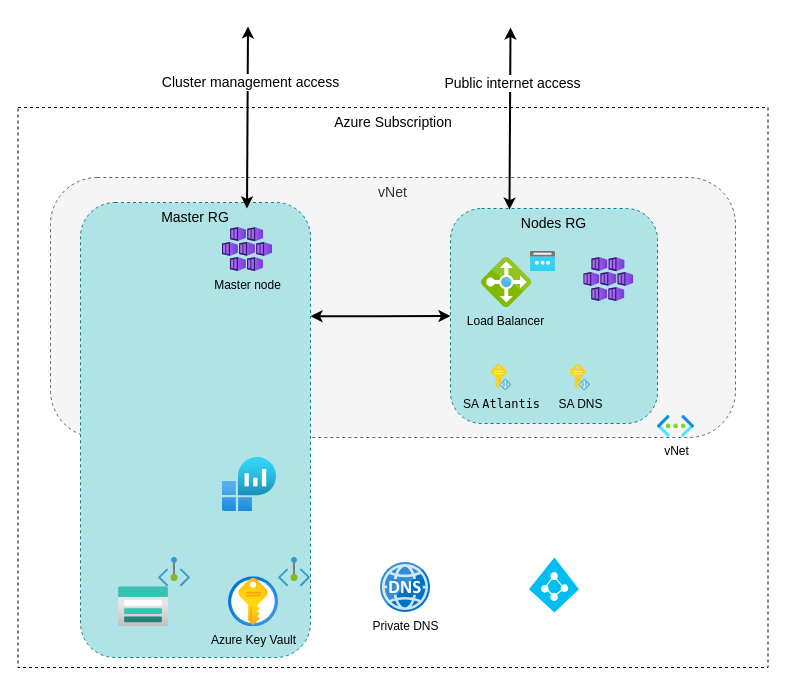
Image size: 785x685. Some labels were removed from this diagram. Each missing label, with the centre of its shape:
"Azure Active Directory" belongs at pixel 553 584.
"Azure Log Analytics" belongs at pixel 249 484.
"Node poll(s)" belongs at pixel 608 279.
"PIP" belongs at pixel 542 261.
"Storage Account" belongs at pixel 143 606.
